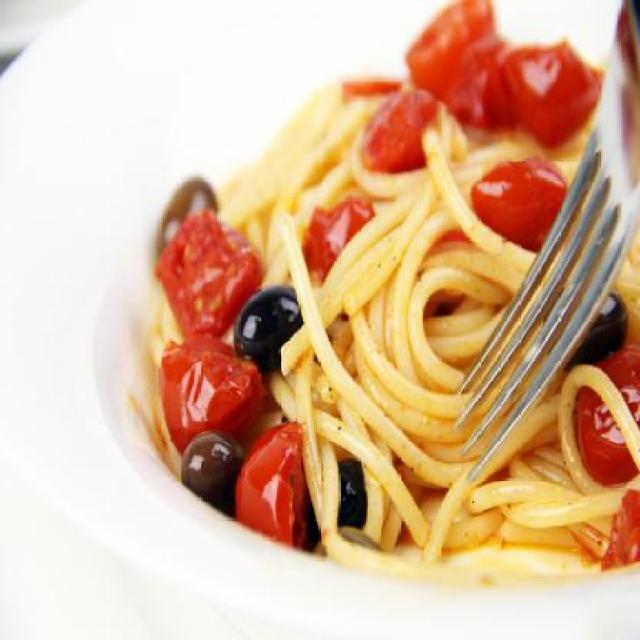Oil pasta: (158, 24, 562, 584)
